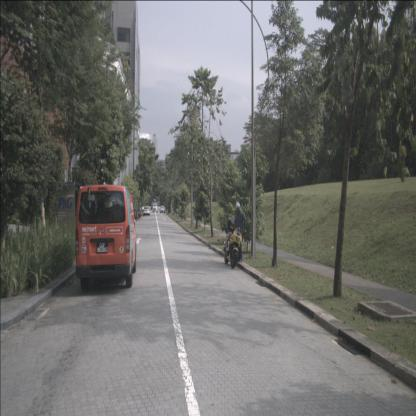human-pedestrian-adult: (234, 202, 246, 263)
vehicle-car: (75, 184, 137, 289), (143, 206, 150, 216), (152, 204, 158, 212), (160, 206, 165, 213)
vehicle-motorcycle: (223, 217, 246, 269)
